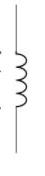inductor: (7, 44, 31, 112)
